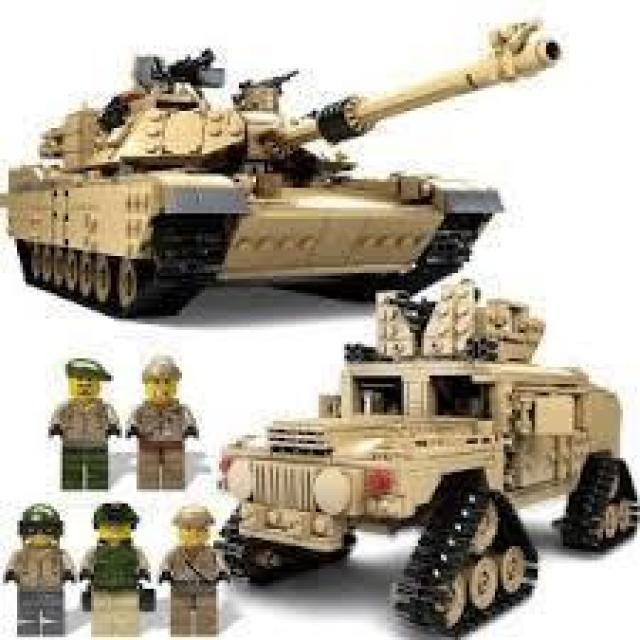Tanks: (1, 47, 539, 317), (216, 282, 632, 617)
